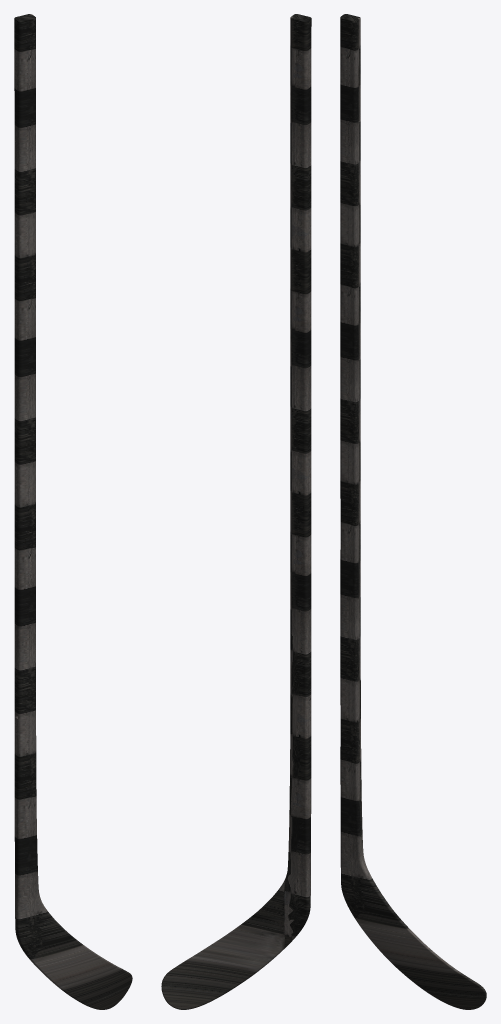
The picture shows the model from 3 angles, left to right: view 1: azimuth 30°, elevation 25°; view 2: azimuth 150°, elevation 25°; view 3: azimuth 330°, elevation 25°; orthographic projection. The views are drawn at different scales.
Visible parts, largest first — view 1: geometry_0; view 2: geometry_0; view 3: geometry_0.
Part boxes in pixels (x1=…): geometry_0: x1=14, y1=14, x2=132, y2=1009; geometry_0: x1=161, y1=14, x2=311, y2=1009; geometry_0: x1=340, y1=14, x2=486, y2=1009.
Bounding box in the file's own units: 224 × 1650 × 69.53.
Materials: 1 (1 with a texture image).
